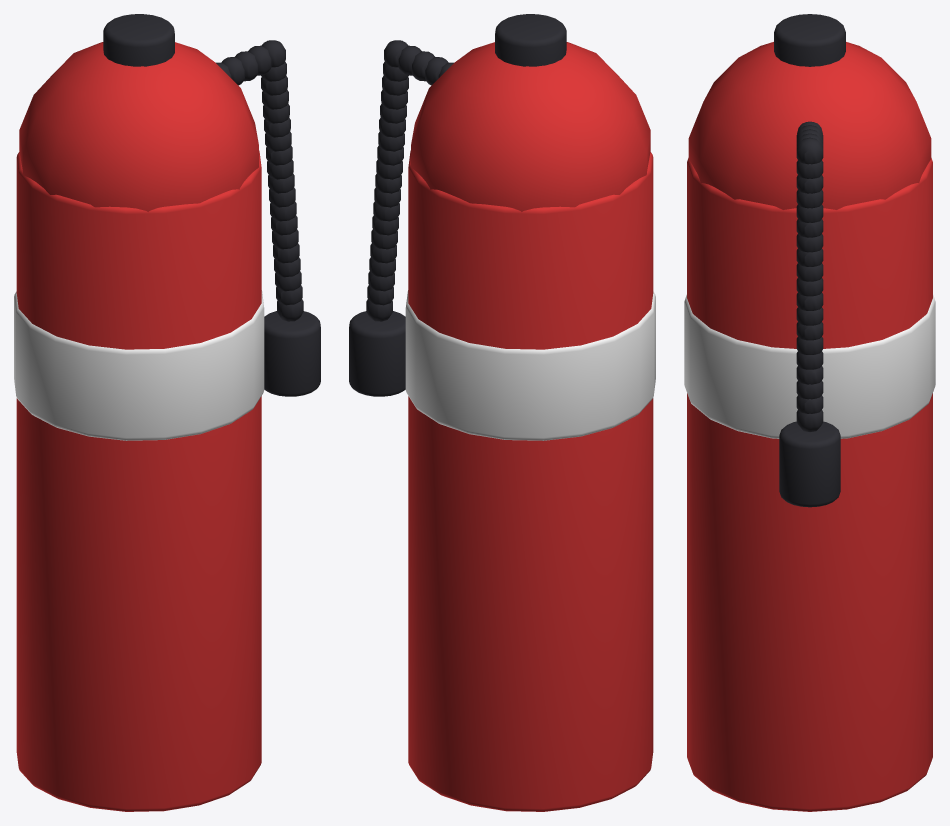
The model's file is extinguisher.glb.
3 views of the same model, side by side, from view 1: azimuth 30°, elevation 25°; view 2: azimuth 150°, elevation 25°; view 3: azimuth 270°, elevation 25° (orthographic).
Parts seen in each view (by area): view 1: extinguisher; view 2: extinguisher; view 3: extinguisher.
Boxes of the visible parts, box(x1,y1,x2,y2) form: extinguisher: box(14, 14, 320, 811); extinguisher: box(349, 14, 655, 811); extinguisher: box(684, 14, 935, 811).
Size of the model in its own units: 0.645 by 1.58 by 0.49.
